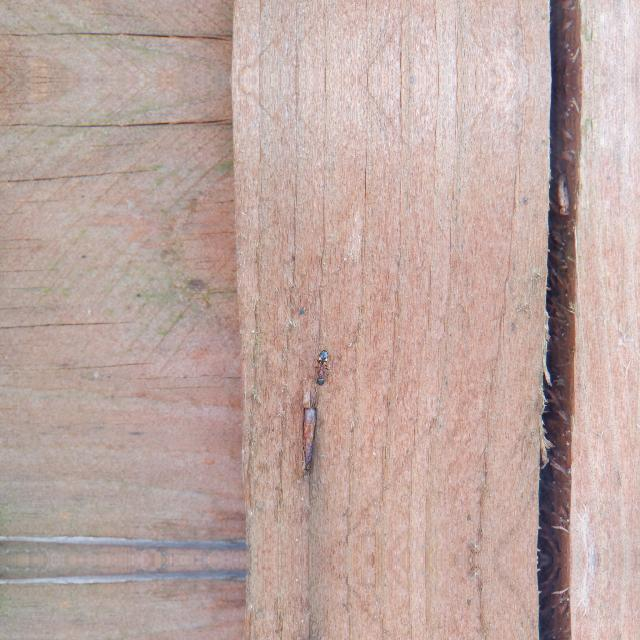Dolichoderus: (306, 343, 338, 389)
